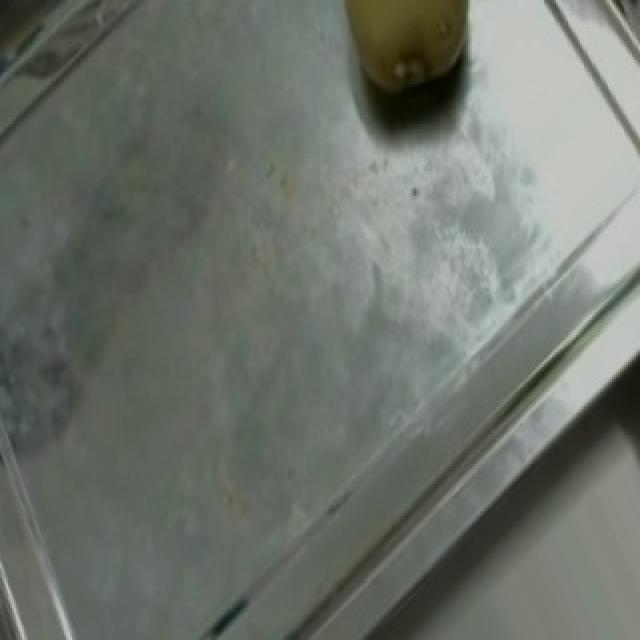Fruit: (296, 0, 510, 131)
